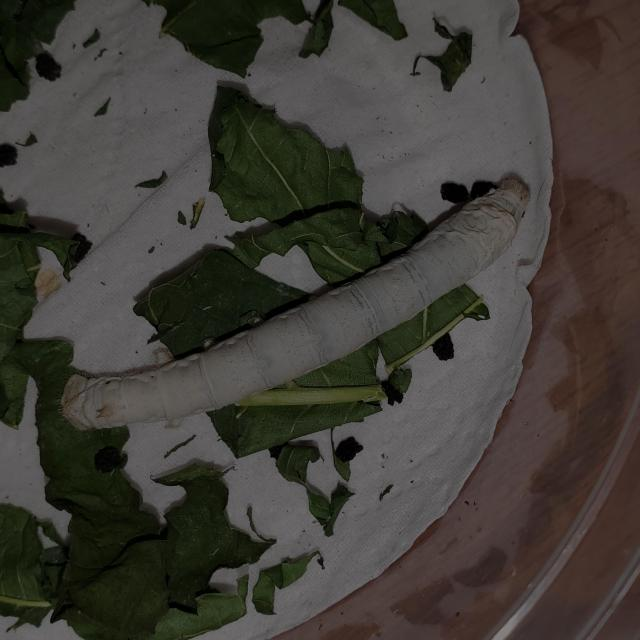Healthy: (55, 165, 541, 441)
